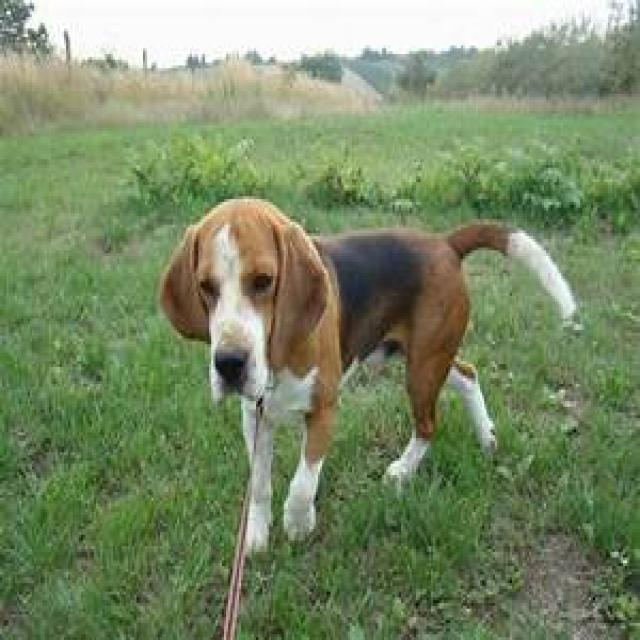dog: (156, 199, 578, 640)
